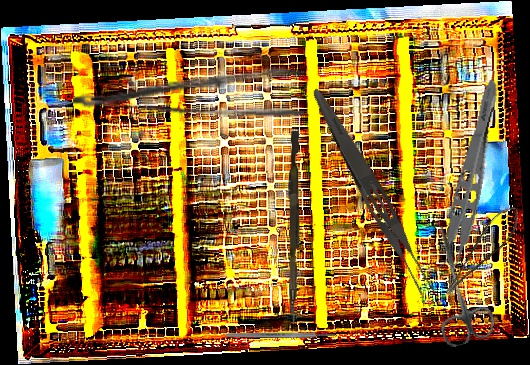Dressing Forceps: (301, 84, 442, 303), (72, 56, 307, 122)
Iris Scissors: (413, 218, 499, 350)
Micro Scissor: (431, 201, 529, 297)
Pusher: (286, 130, 303, 325)
Scalpel Handle: (226, 332, 335, 338)
Tissue Forceps: (431, 75, 503, 280)
